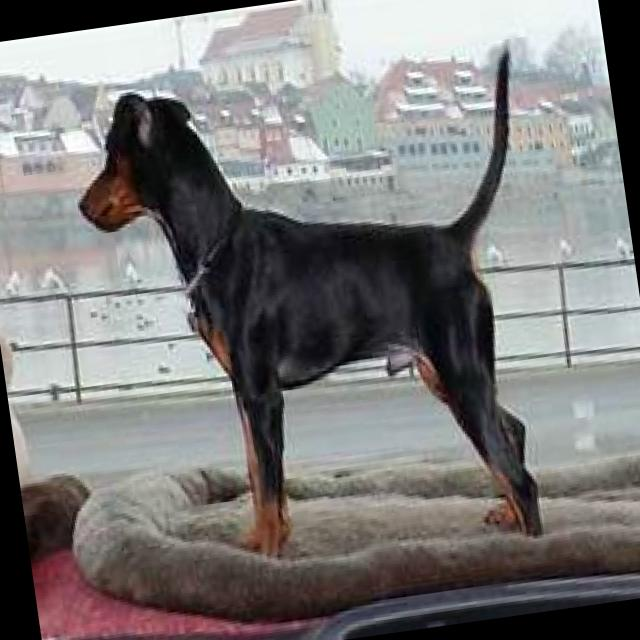dog: (62, 37, 574, 588)
